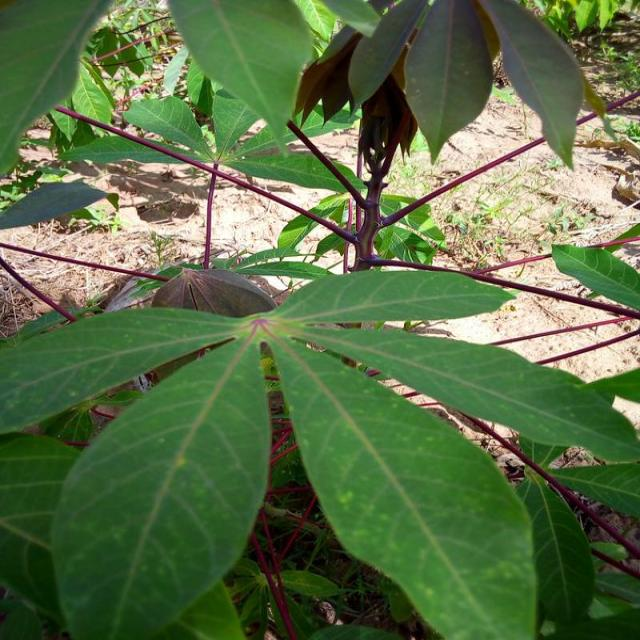cassava leaf: (267, 326, 539, 638), (50, 333, 272, 638), (167, 0, 316, 154)
